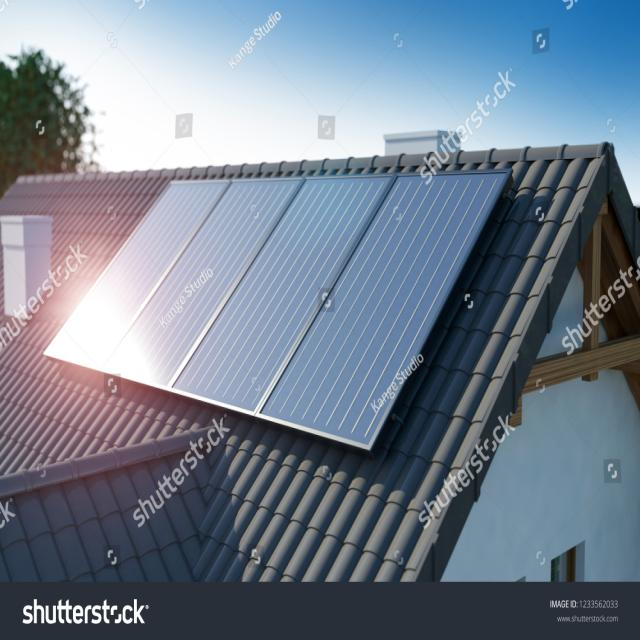clean-solar-panel: (54, 171, 510, 449)
